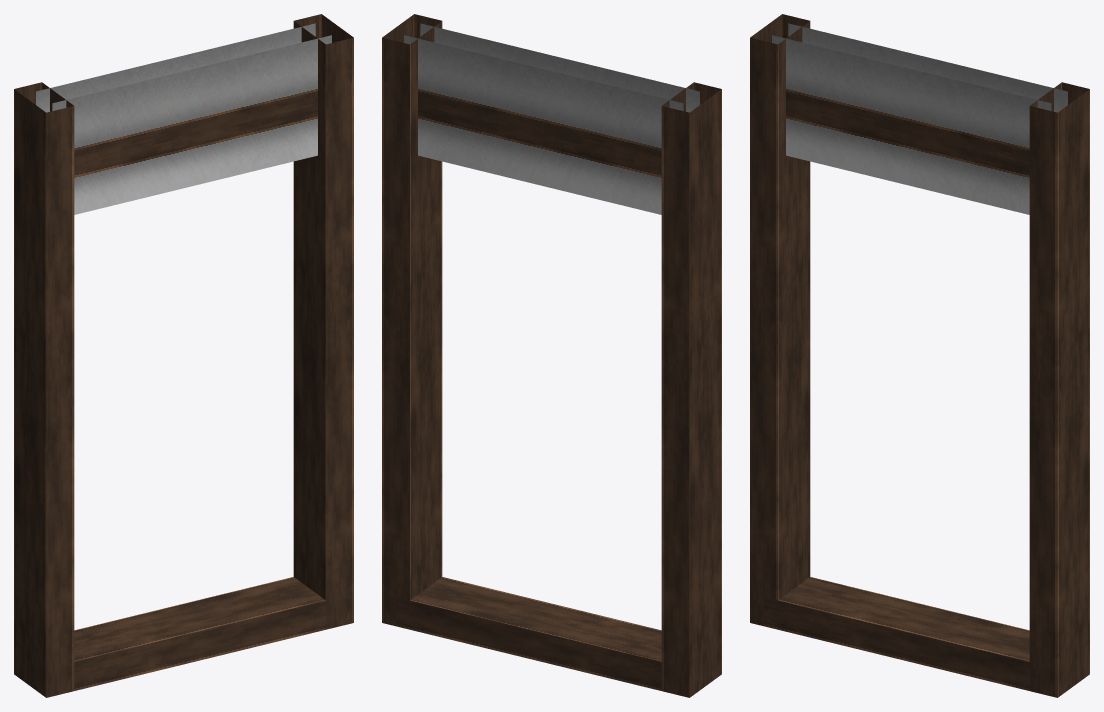
File: house_passage_2x4.glb
3 renders of one model, left to right at view 1: azimuth 30°, elevation 25°; view 2: azimuth 150°, elevation 25°; view 3: azimuth 330°, elevation 25°, orthographic.
Visible parts, largest first — view 1: house_passage_2x4; view 2: house_passage_2x4; view 3: house_passage_2x4.
Boxes of the visible parts, left/top/right/bottom form: house_passage_2x4: left=14, top=14, right=353, bottom=697; house_passage_2x4: left=382, top=14, right=721, bottom=697; house_passage_2x4: left=750, top=14, right=1089, bottom=697.
Bounding box in the file's own units: 2.2 × 4 × 0.4.
2 materials, 2 textured.
